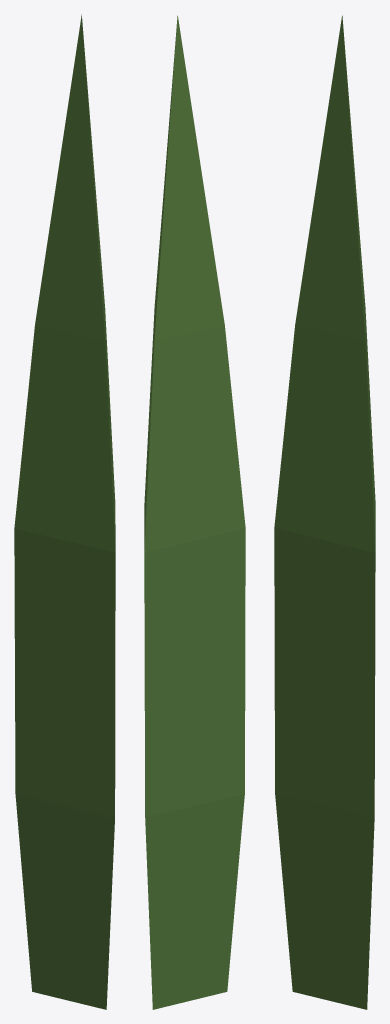
File: grass-1.gltf
3 views of the same model, side by side, from view 1: azimuth 90°, elevation 25°; view 2: azimuth 150°, elevation 25°; view 3: azimuth 330°, elevation 25° (orthographic).
Parts seen in each view (by area): view 1: Cone; view 2: Cone; view 3: Cone.
Part boxes in pixels (box(x1,y1,x2,y2)): Cone: box(14, 14, 115, 1009); Cone: box(144, 15, 245, 1009); Cone: box(274, 15, 375, 1009).
Size of the model in its own units: 0.2165 by 2 by 0.1876.
